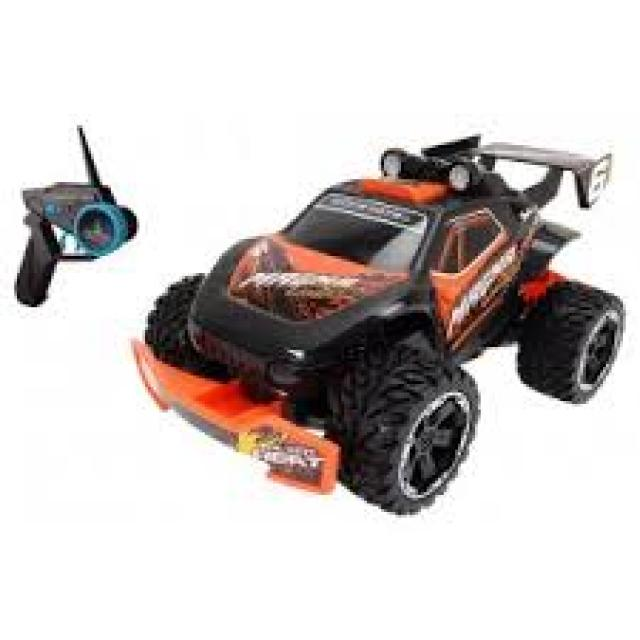Car: (134, 137, 620, 512)
